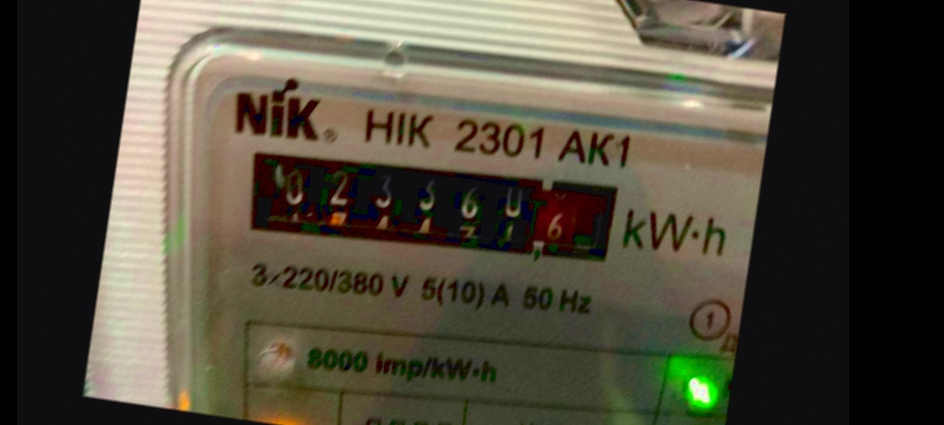0: (278, 163, 309, 208), (499, 180, 527, 220)
2: (323, 164, 355, 207)
3: (370, 168, 397, 211), (412, 172, 439, 213)
6: (453, 179, 485, 223), (543, 206, 569, 244)
screen: (220, 117, 634, 292)
